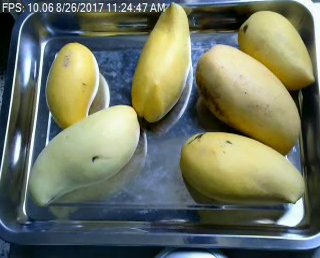Mango: (196, 44, 300, 154), (29, 105, 140, 206), (182, 131, 305, 206), (131, 2, 191, 123), (238, 9, 316, 90), (47, 40, 99, 127)
